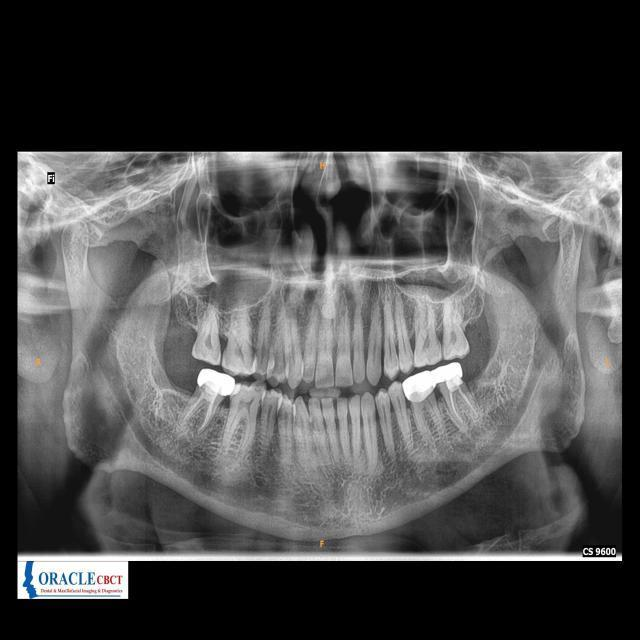kanal-tedavisi: (185, 388, 219, 433), (448, 389, 481, 422)
kaplama: (194, 360, 238, 402), (399, 374, 439, 404), (429, 365, 469, 389)
